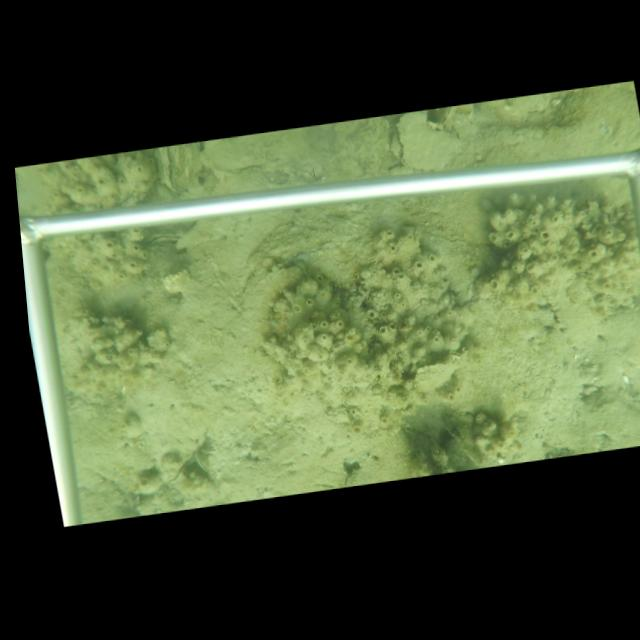Oyster-Closed: (132, 432, 212, 500), (395, 110, 470, 170), (412, 347, 471, 394), (156, 144, 201, 194), (144, 229, 182, 244), (193, 447, 211, 474), (438, 108, 456, 124)
Oyster-Indeterminate: (239, 257, 306, 328)
